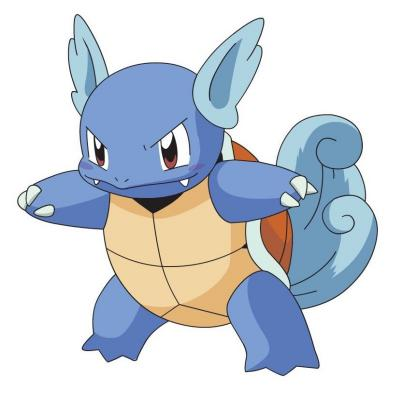Wartortle: (10, 7, 382, 390)
